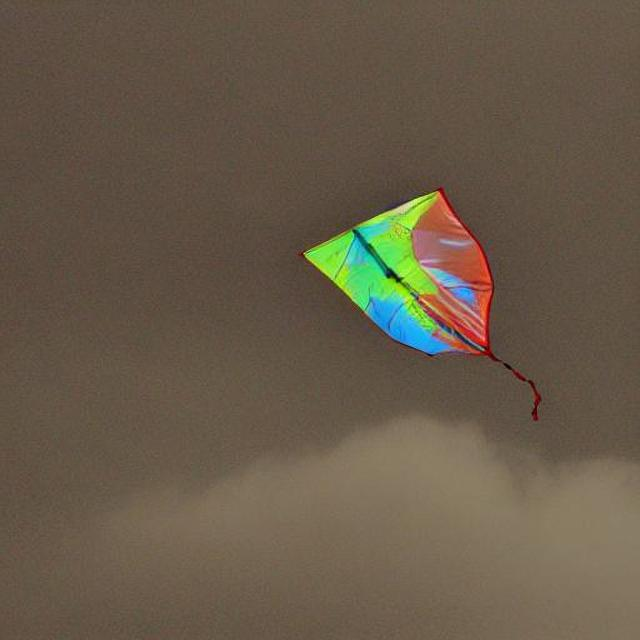floating object: (302, 182, 542, 417)
